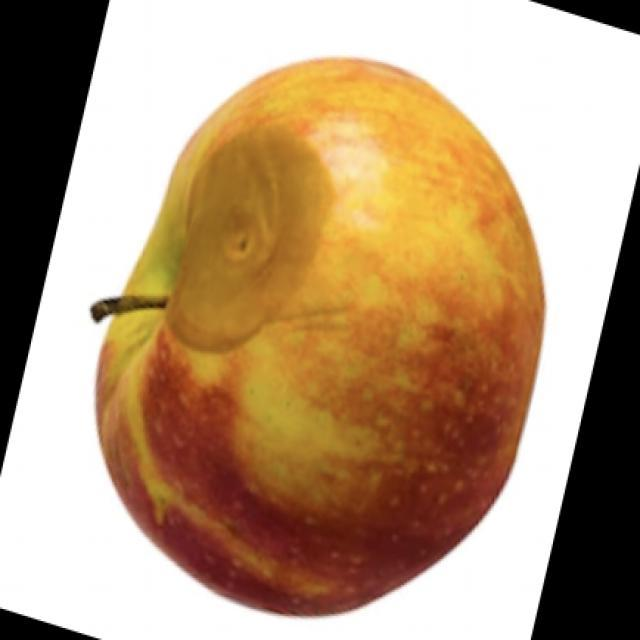Rotten: (105, 68, 540, 610)
